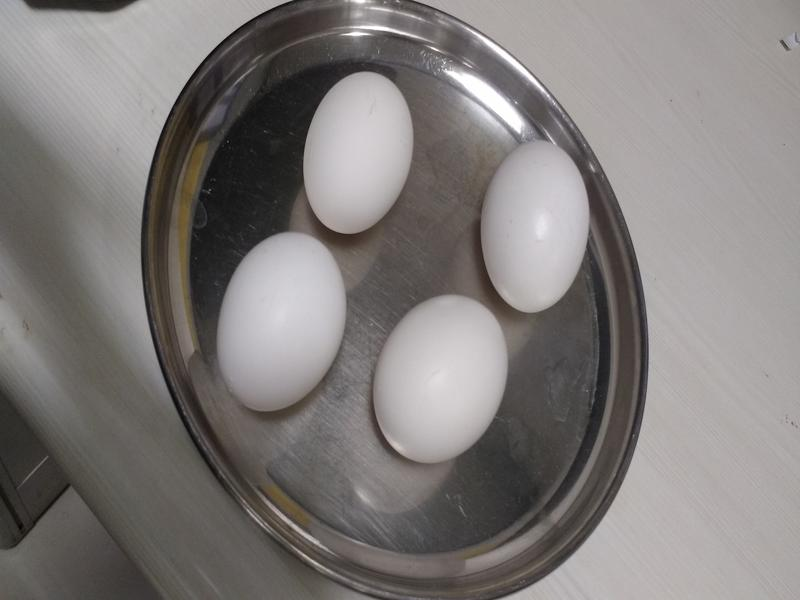egg: (375, 291, 511, 461)
